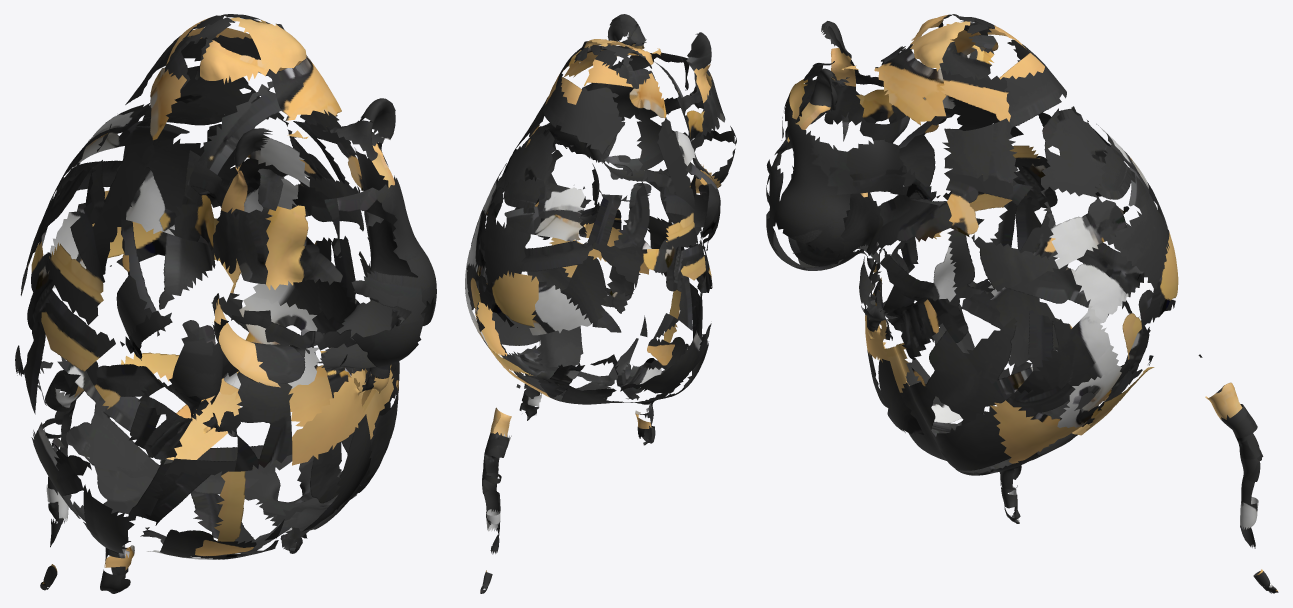
Rendered from hamster.fbx.
3 renders of one model, left to right at view 1: azimuth 30°, elevation 25°; view 2: azimuth 150°, elevation 25°; view 3: azimuth 270°, elevation 25°, orthographic. The views are drawn at different scales.
Parts seen in each view (by area): view 1: input; view 2: input; view 3: input.
Part boxes in pixels (x1,y1,x2,y2): input: [15, 14, 436, 593]; input: [465, 14, 736, 593]; input: [766, 14, 1278, 593].
Bounding box in the file's own units: 69.17 × 141 × 115.
